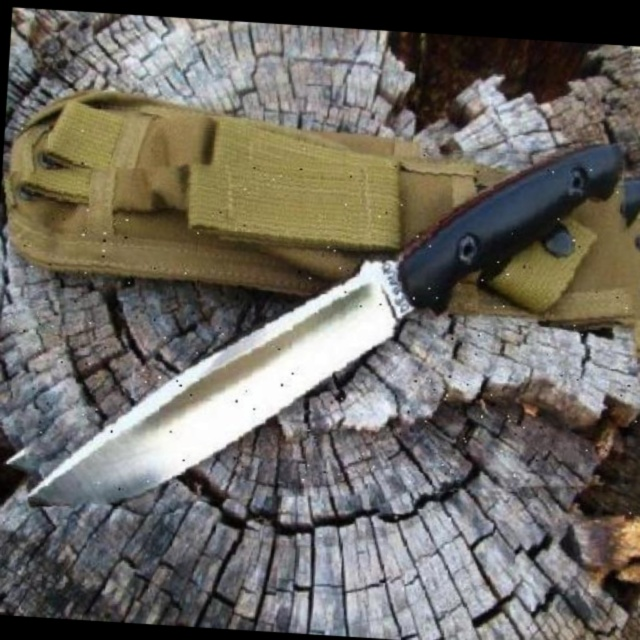Sharp-Object: (0, 122, 640, 529)
